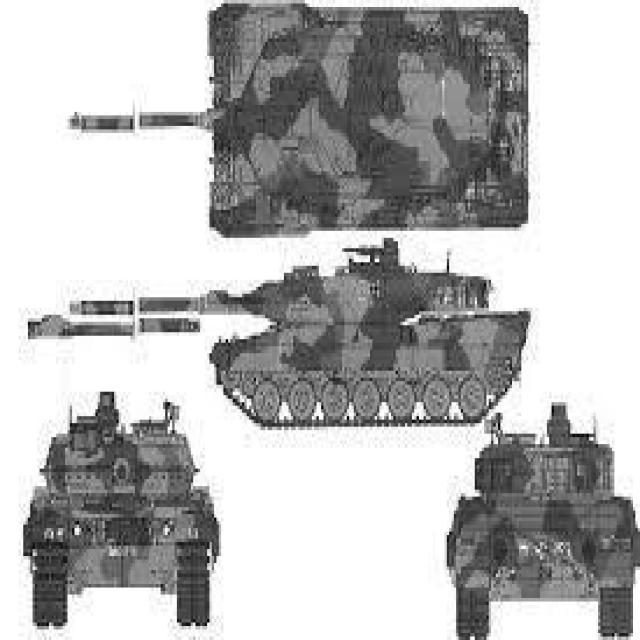Tanks: (70, 3, 530, 235), (28, 239, 531, 425), (22, 388, 220, 630), (443, 398, 639, 636)
